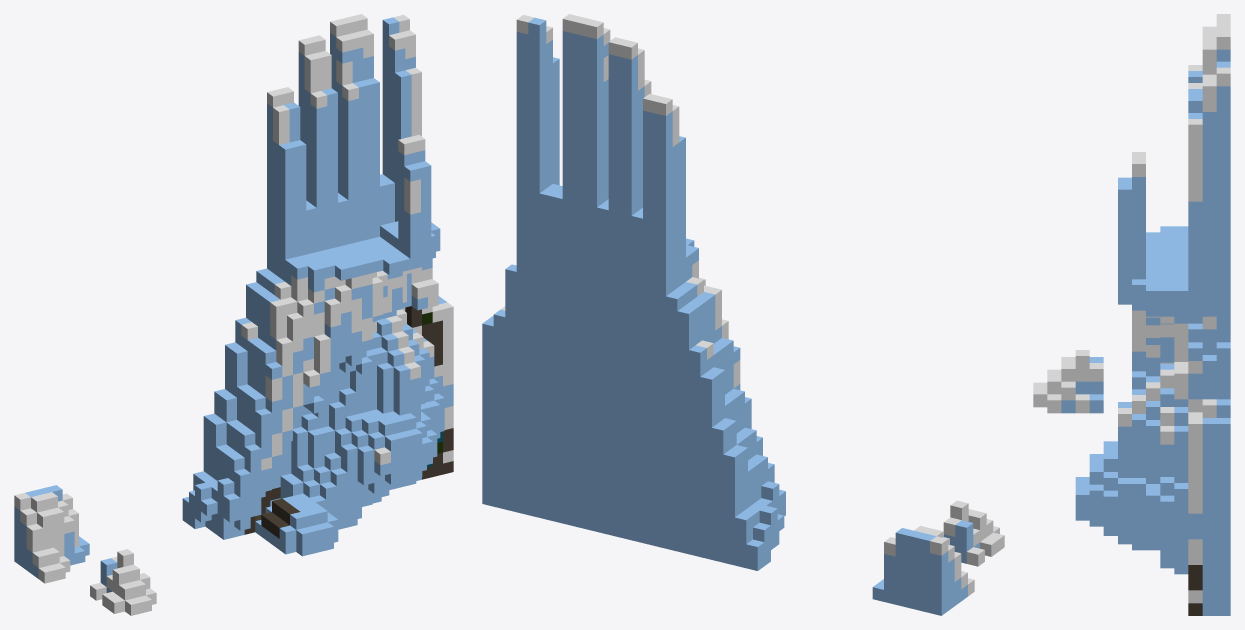
File: snow9.obj
The picture shows the model from 3 angles, left to right: view 1: azimuth 30°, elevation 25°; view 2: azimuth 150°, elevation 25°; view 3: azimuth 270°, elevation 25°; orthographic projection. The views are drawn at different scales.
Size of the model in its own units: 4 by 4.2 by 1.4.
1 material, 1 textured.
